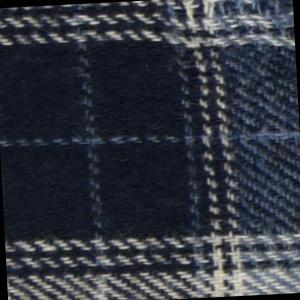Damage: (157, 1, 296, 63)
